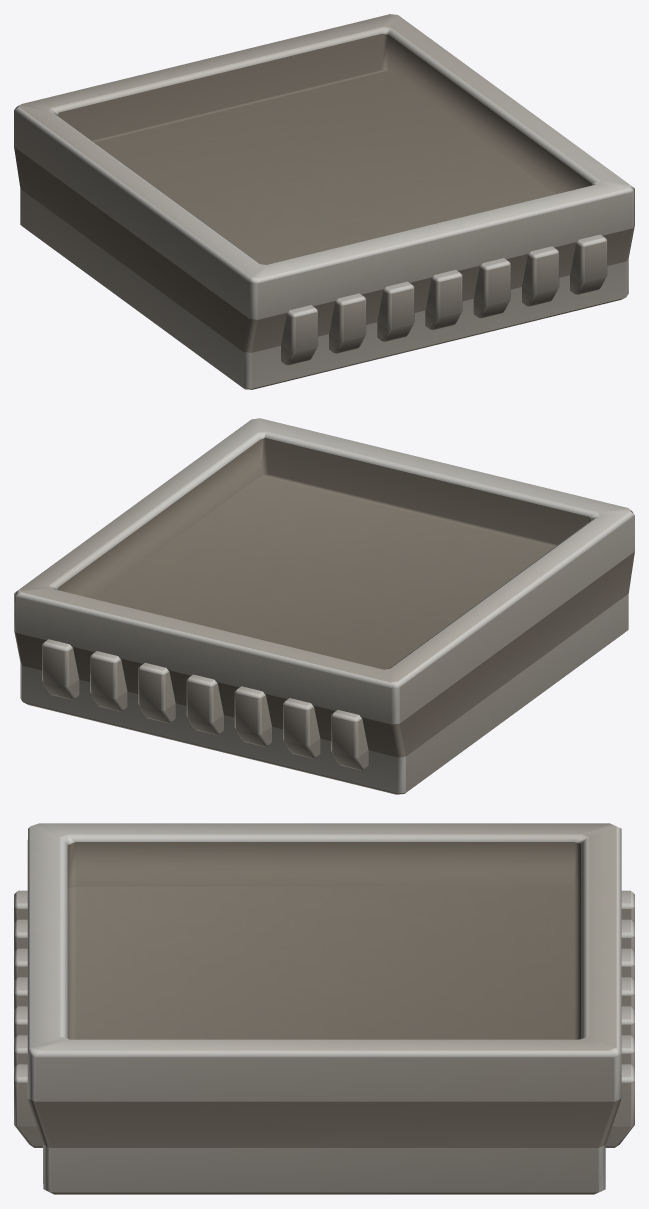
Rendered from appartment_type1_roof_type2_x4.fbx.
3 renders of one model, top to bottom at view 1: azimuth 30°, elevation 25°; view 2: azimuth 150°, elevation 25°; view 3: azimuth 270°, elevation 25°, orthographic. The views are drawn at different scales.
Parts seen in each view (by area): view 1: appartment_type1_roof_type2_x4; view 2: appartment_type1_roof_type2_x4; view 3: appartment_type1_roof_type2_x4.
Part boxes in pixels (box(x1,y1,x2,y2)): appartment_type1_roof_type2_x4: box(14, 14, 634, 389); appartment_type1_roof_type2_x4: box(14, 418, 634, 794); appartment_type1_roof_type2_x4: box(14, 823, 634, 1194).
Bounding box in the file's own units: 800 × 232 × 907.
